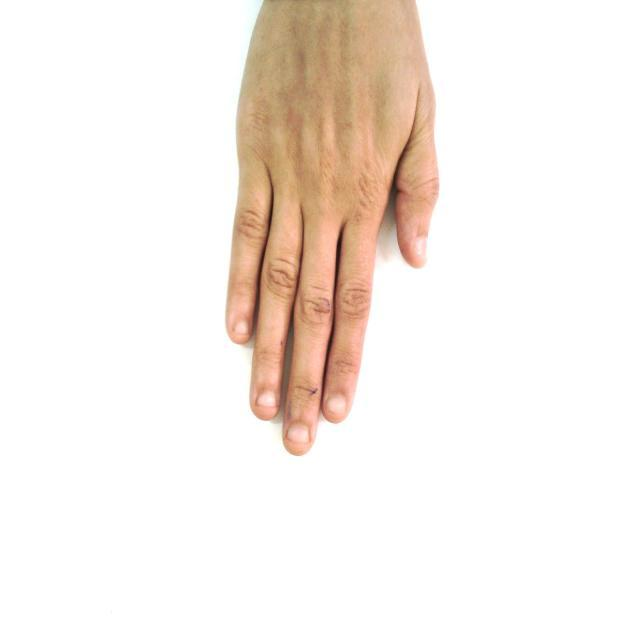Fingernail: (288, 424, 309, 444), (327, 396, 346, 416), (258, 393, 275, 410), (415, 238, 427, 259), (234, 321, 249, 335)
